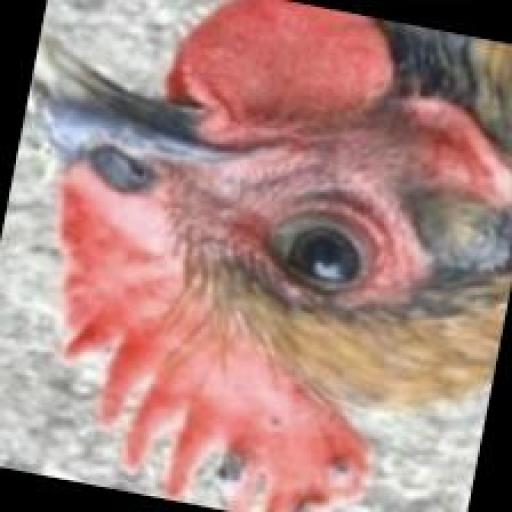disease: (178, 345, 377, 512)
